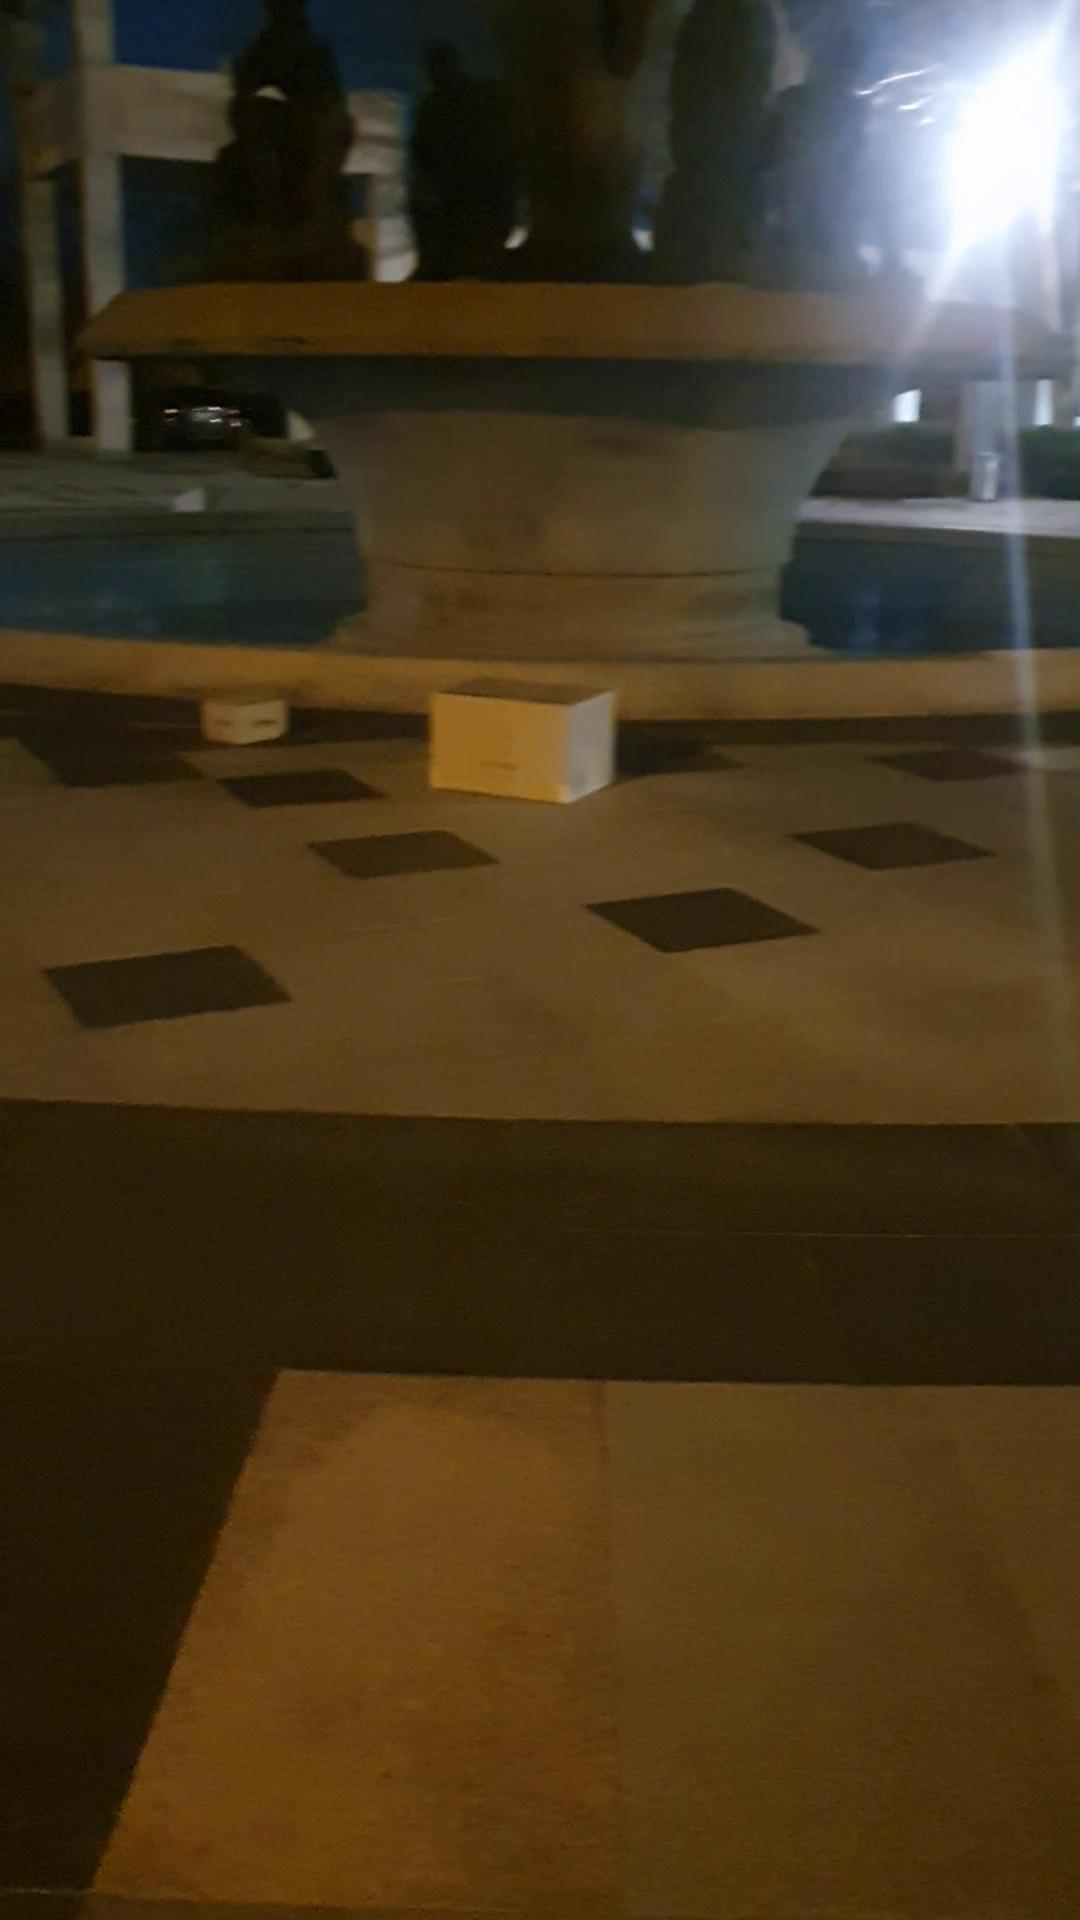Box: (426, 673, 620, 793), (191, 665, 293, 756)
